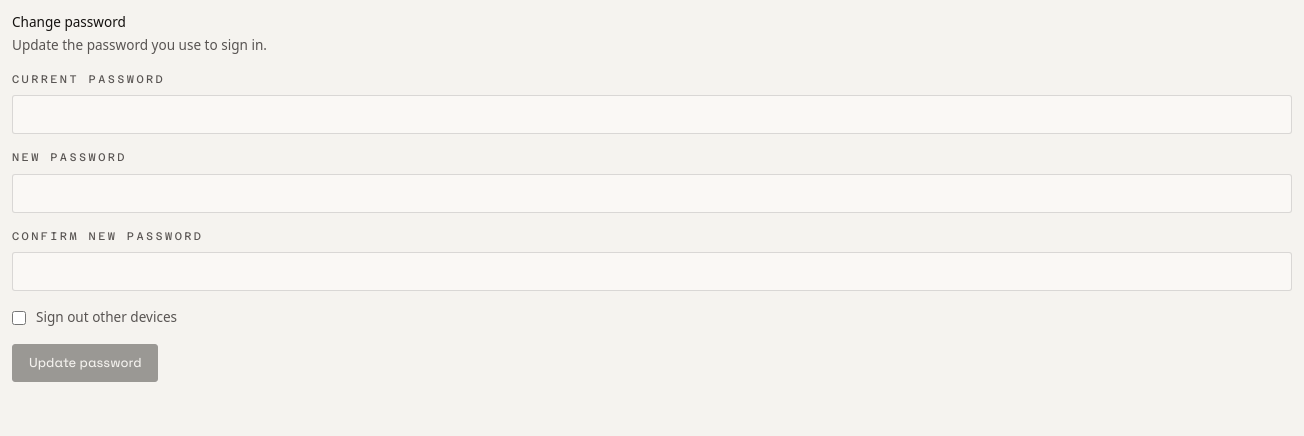
PasswordCard › does not enable submit when new and confirm differ
Type "oldpassword" into the password field labelled "Current password" at (652, 115), box [12, 95, 1292, 134]
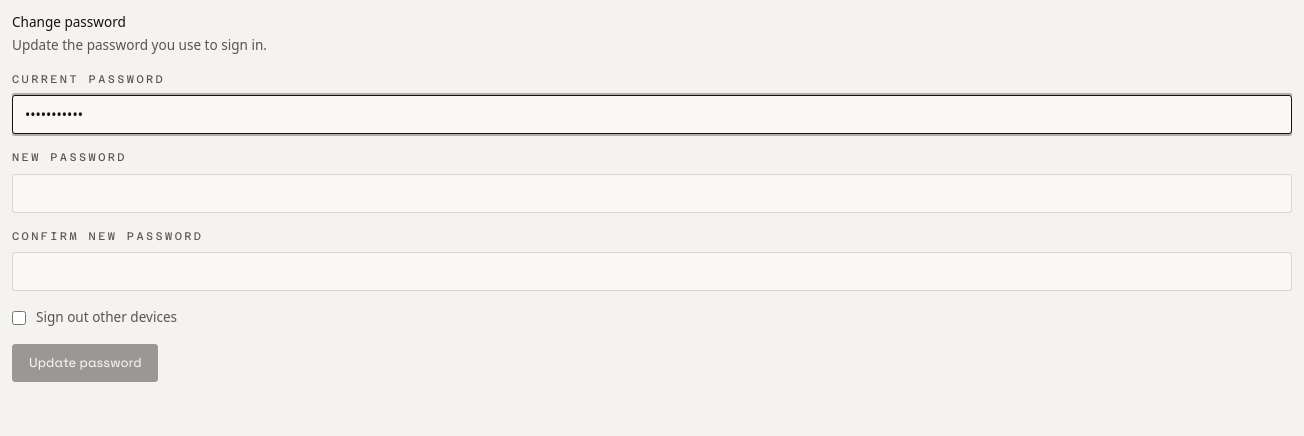
Type "newpassword1" into the password field labelled "New password" at (652, 193), box [12, 174, 1292, 213]
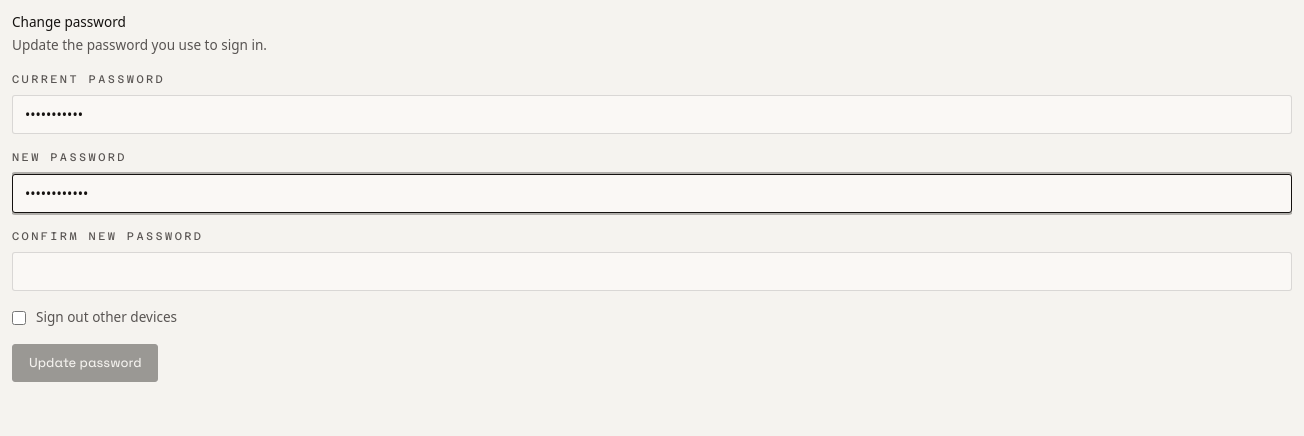
Type "different99" into the password field labelled "Confirm new password" at (652, 272), box [12, 252, 1292, 291]
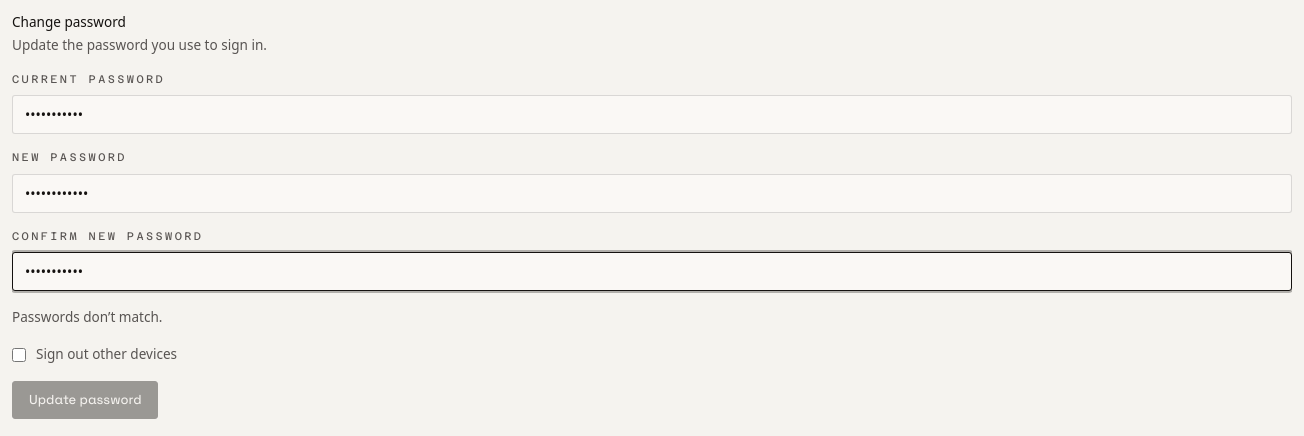
Expected: the button "Update password" is disabled, [12, 381, 158, 419]
Expected: the text "Passwords don’t match." is shown, [12, 308, 162, 326]
